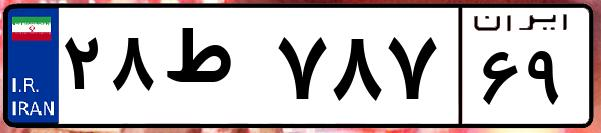2: (57, 26, 110, 100)
6: (475, 38, 525, 113)
7: (270, 28, 330, 110), (385, 28, 445, 110)
8: (330, 28, 385, 110), (110, 28, 158, 98)
9: (525, 38, 570, 115)
ط: (158, 20, 270, 120)
